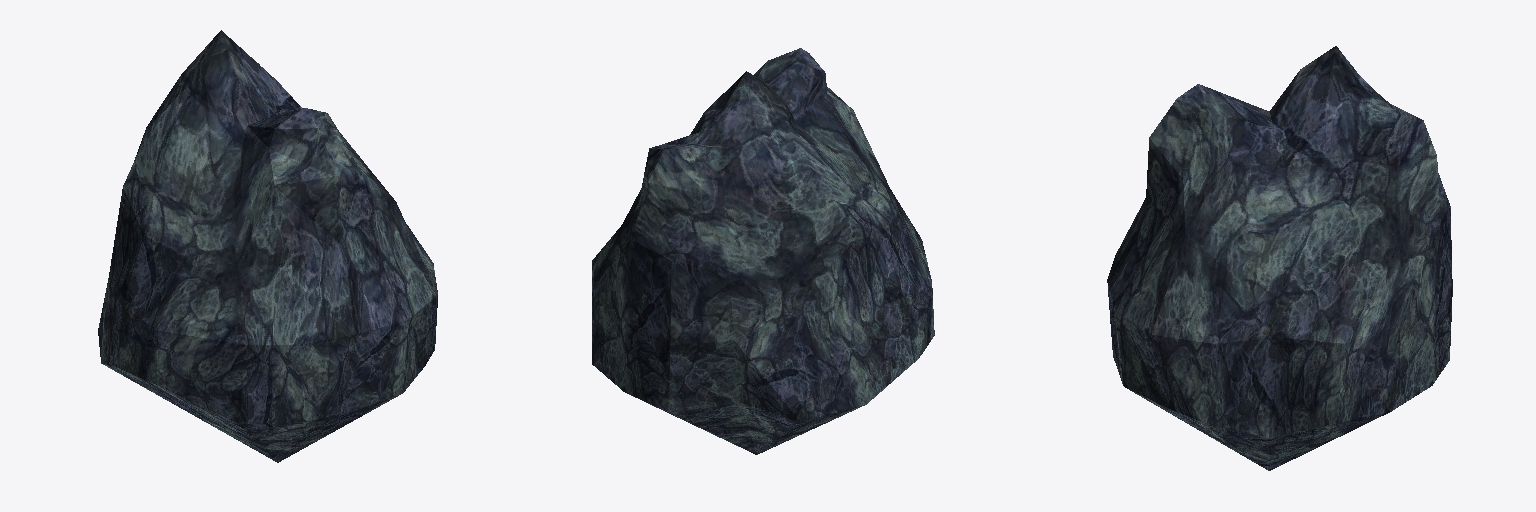
3 views of the same model, side by side, from view 1: azimuth 30°, elevation 25°; view 2: azimuth 150°, elevation 25°; view 3: azimuth 270°, elevation 25° (orthographic).
Visible parts, largest first — view 1: Node 0; view 2: Node 0; view 3: Node 0.
Part boxes in pixels (x1,y1,x2,y2): Node 0: (98, 30, 437, 462); Node 0: (592, 48, 934, 454); Node 0: (1107, 46, 1452, 470).
Bounding box in the file's own units: 4.7 × 6.43 × 4.86.
1 materials, 1 textured.